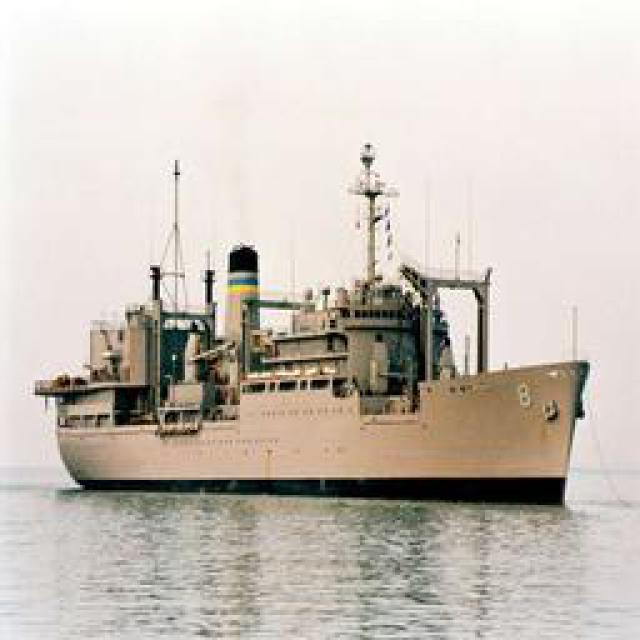Ship: (41, 121, 591, 489)
